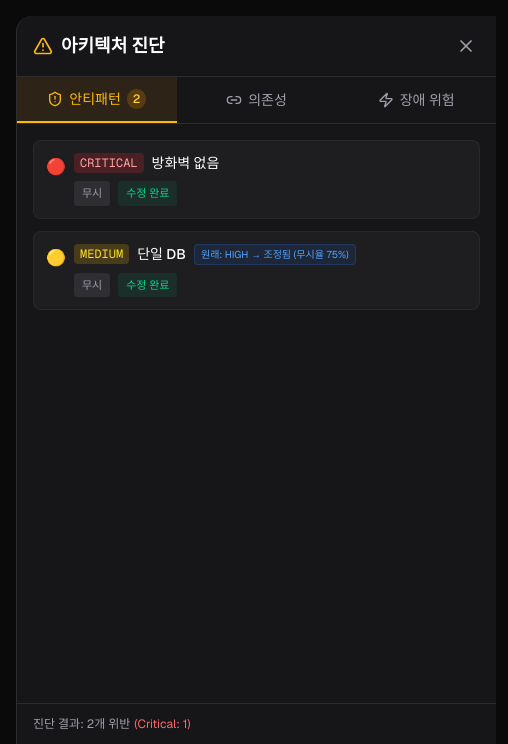
Test: HealthCheckPanel - Calibrated Behavior › should remove anti-pattern when ignore button is clicked
Click the button with test id "ignore-AP-001".
click(92, 193)  # box [74,181,110,206]
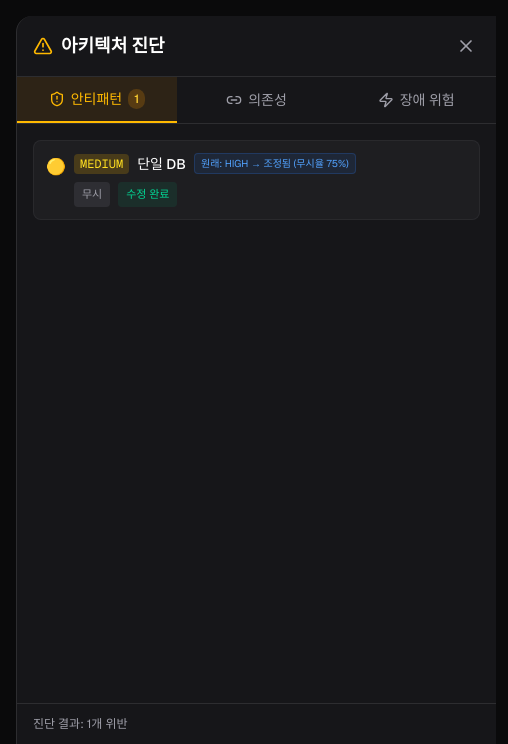
Expected: the text "방화벽 없음" is gone
